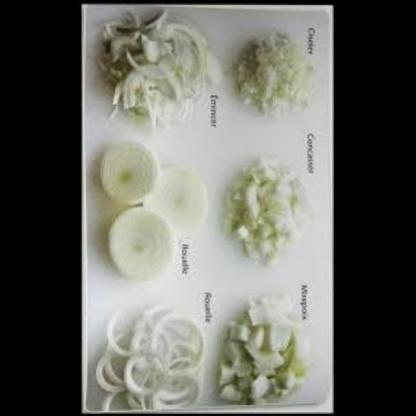onion: (83, 140, 215, 274), (99, 296, 206, 416), (101, 20, 214, 131), (227, 23, 327, 133)
